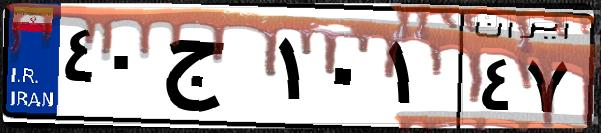0: (330, 28, 385, 110), (110, 28, 158, 98)
1: (270, 28, 330, 110), (385, 28, 445, 110)
4: (57, 26, 110, 100), (475, 38, 525, 113)
7: (525, 38, 570, 115)
ج: (158, 20, 270, 120)
